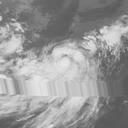cyclone: (29, 40, 106, 103)
